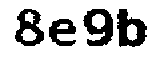8: (13, 7, 45, 49)
9: (79, 3, 115, 53)
b: (116, 4, 151, 51)
e: (47, 17, 78, 50)
